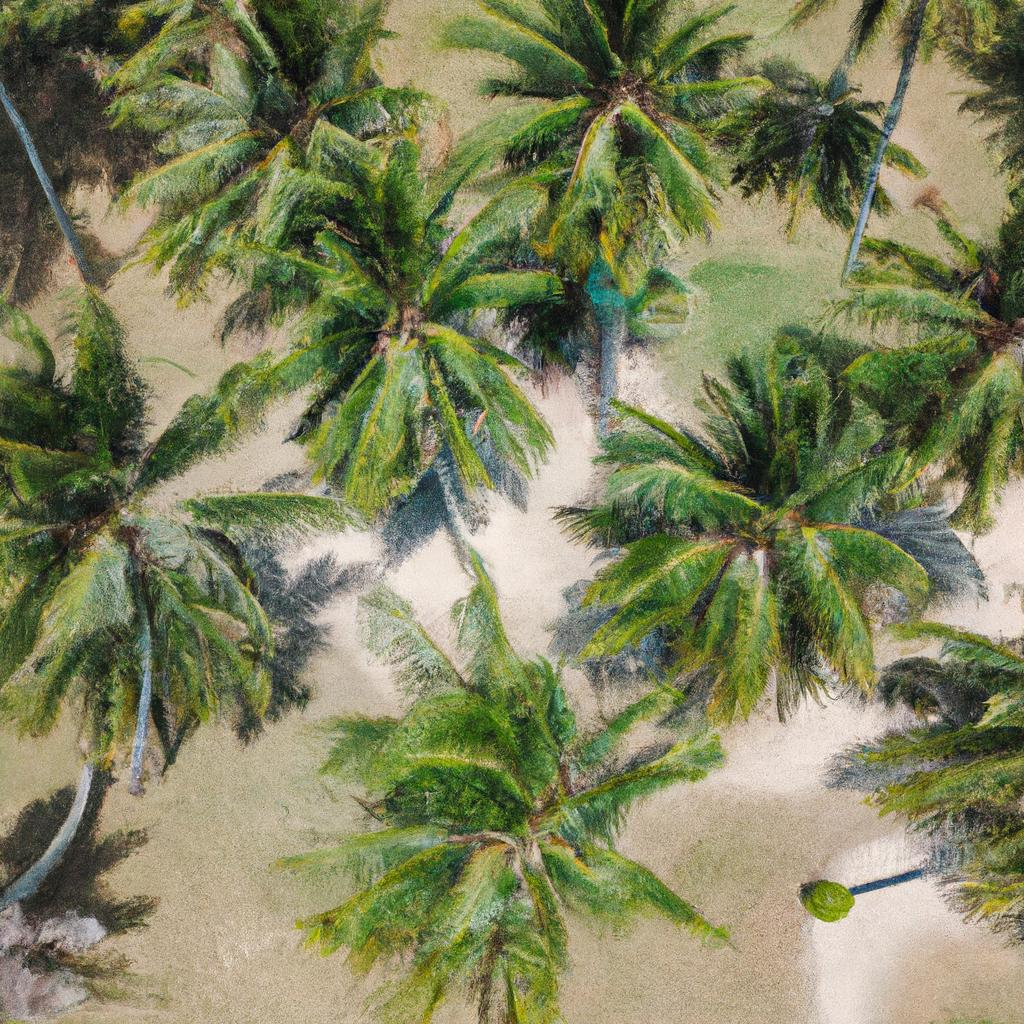coconut_tree: (311, 574, 705, 1023), (235, 120, 605, 529), (562, 320, 949, 701), (438, 0, 771, 243)
